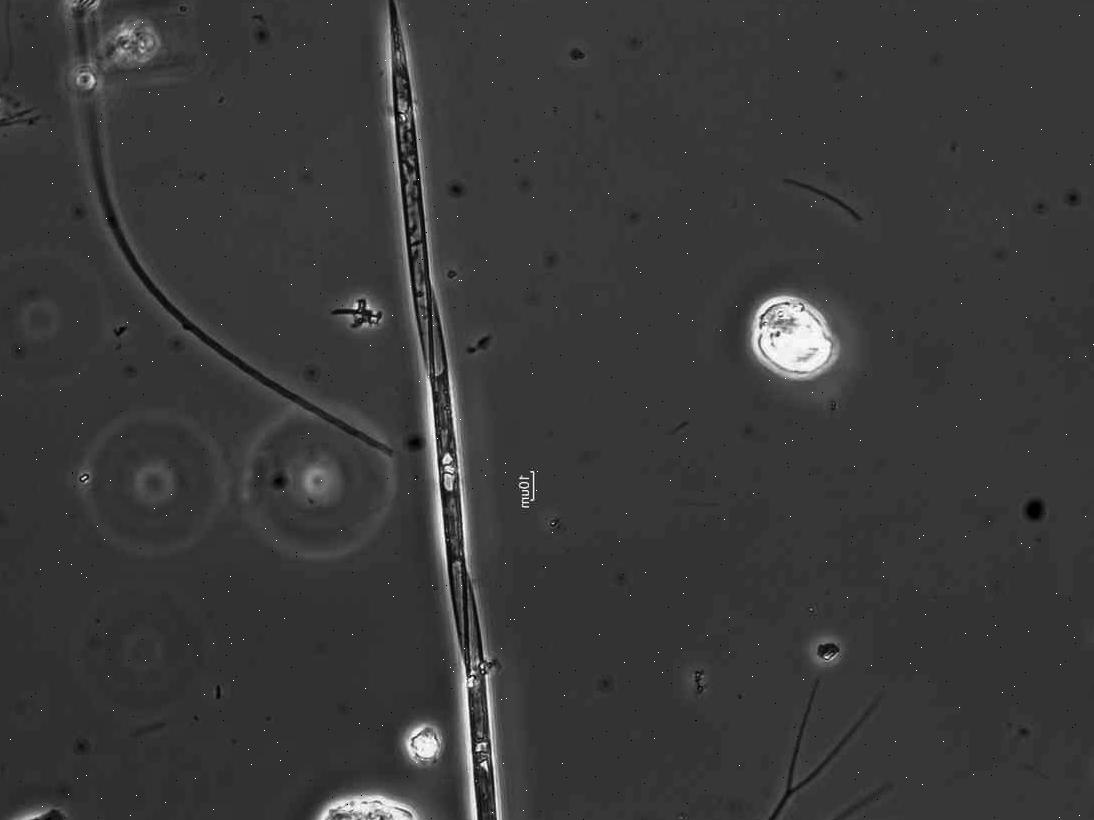pseudo_nitzschia: (387, 0, 498, 820)
